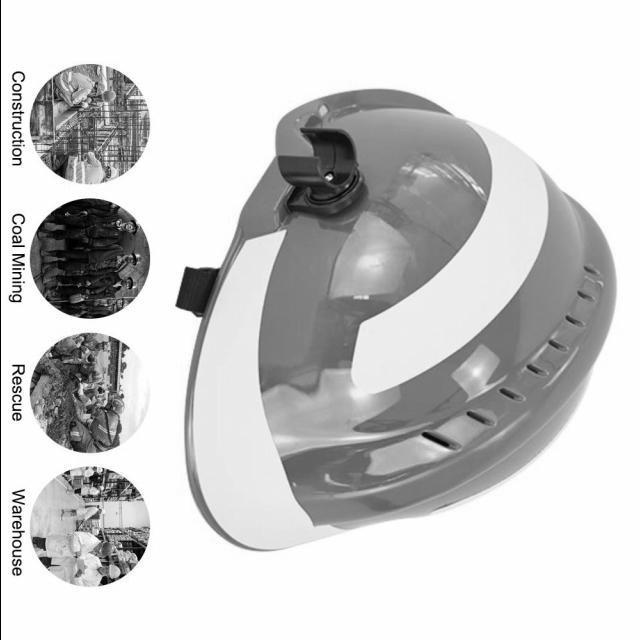safety_helmet: (181, 86, 615, 554)
